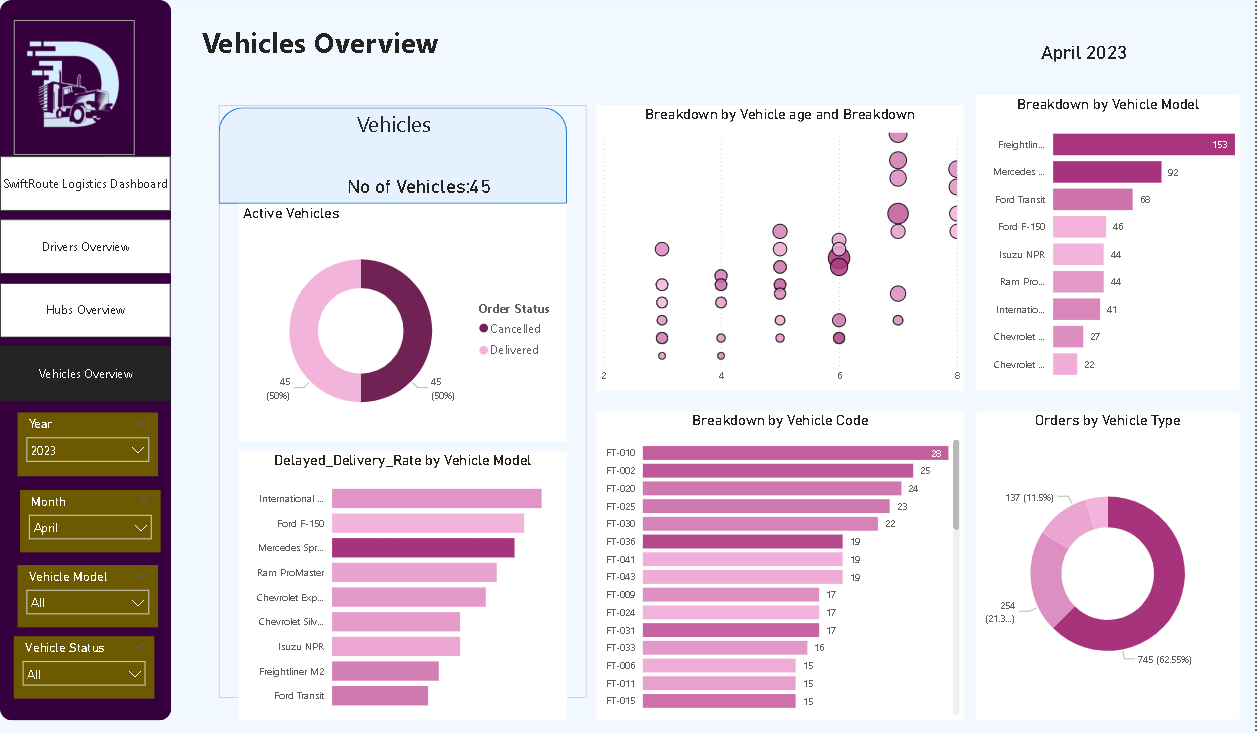

Layout of this report page (visuals, bound fields, positions):
{"tool":"powerbi","page":{"name":"Vehicles Overview","canvas":[1450,850],"ordinal":3},"visuals":[{"type":"shape","box":[0,0,197.8,831.9],"z":0},{"type":"textbox","box":[227.8,22.2,536.3,54.4],"z":1000},{"type":"slicer","fields":{"Values":["Date Table.Year"]},"box":[20.5,476.2,162.2,73.9],"z":2000},{"type":"slicer","fields":{"Values":["Date Table.Month"]},"box":[22.6,566.5,162.2,71.8],"z":3000},{"type":"image","box":[16.4,22.6,139.6,156],"z":4000},{"type":"cardVisual","fields":{"Data":["Orders.Year_Month_Title"]},"box":[1095,22.9,313.8,53.9],"z":5000},{"type":"shape","box":[253.3,120.9,424.9,684.8],"z":6000},{"type":"textbox","box":[344.9,120.9,219,42.5],"z":7000},{"type":"shape","box":[253.3,124.2,402.1,111.1],"z":8000},{"type":"cardVisual","fields":{"Data":["Orders.No of Vehicles"]},"box":[344.9,178.1,277.8,57.2],"z":9000},{"type":"barChart","fields":{"Y":["Orders.Delayed_Delivery_Rate"],"Category":["Vehicles.Vehicle Model"]},"box":[276.2,521.4,379.2,310.5],"z":10000},{"type":"donutChart","title":"Active Vehicles","fields":{"Category":["Orders.Order Status"],"Y":["CountNonNull(Vehicles.Vehicle ID)"]},"box":[276.2,235.4,379.2,274.6],"z":11000},{"type":"scatterChart","title":"Breakdown by Vehicle age and Breakdown","fields":{"X":["Vehicles.Vehicle age"],"Y":["Vehicles.Breakdown"],"Size":["Sum(Vehicles.Breakdown)1"]},"box":[688.1,120.9,424.9,330.1],"z":12000},{"type":"barChart","fields":{"Y":["Sum(Vehicles.Breakdown)"],"Category":["Vehicles.Vehicle Code"]},"box":[688.1,475.6,424.9,356.3],"z":13000},{"type":"barChart","fields":{"Y":["Sum(Vehicles.Breakdown)"],"Category":["Vehicles.Vehicle Model"]},"box":[1127.7,109.5,304,341.6],"z":14000},{"type":"donutChart","title":"Orders by Vehicle Type","fields":{"Category":["Orders.Vehicle Type"],"Y":["Orders.Total Orders"]},"box":[1127.7,475.6,304,356.3],"z":15000},{"type":"pageNavigator","box":[0,180.6,197.1,283.3],"z":16000},{"type":"slicer","fields":{"Values":["Vehicles.Vehicle Model"]},"box":[20.5,652.8,162.2,71.8],"z":16001},{"type":"slicer","fields":{"Values":["Vehicles.Vehicle Status"]},"box":[16.4,734.9,162.2,71.8],"z":16002}]}

Visuals, with their boxes on the page's 1450x850 design canvas (x1, y1, x2, y2). These are canvas units, not pixel positions in the 1260x733 screenshot, which may show the page scaled, cropped or inside an application window:
shape: 0,0,198,832
textbox: 228,22,764,77
slicer - Date Table.Year: 20,476,183,550
slicer - Date Table.Month: 23,566,185,638
image: 16,23,156,179
cardVisual - Orders.Year_Month_Title: 1095,23,1409,77
shape: 253,121,678,806
textbox: 345,121,564,163
shape: 253,124,655,235
cardVisual - Orders.No of Vehicles: 345,178,623,235
barChart - Orders.Delayed_Delivery_Rate x Vehicles.Vehicle Model: 276,521,655,832
"Active Vehicles" donutChart: 276,235,655,510
"Breakdown by Vehicle age and Breakdown" scatterChart: 688,121,1113,451
barChart - Sum(Vehicles.Breakdown) x Vehicles.Vehicle Code: 688,476,1113,832
barChart - Sum(Vehicles.Breakdown) x Vehicles.Vehicle Model: 1128,110,1432,451
"Orders by Vehicle Type" donutChart: 1128,476,1432,832
pageNavigator: 0,181,197,464
slicer - Vehicles.Vehicle Model: 20,653,183,725
slicer - Vehicles.Vehicle Status: 16,735,179,807
